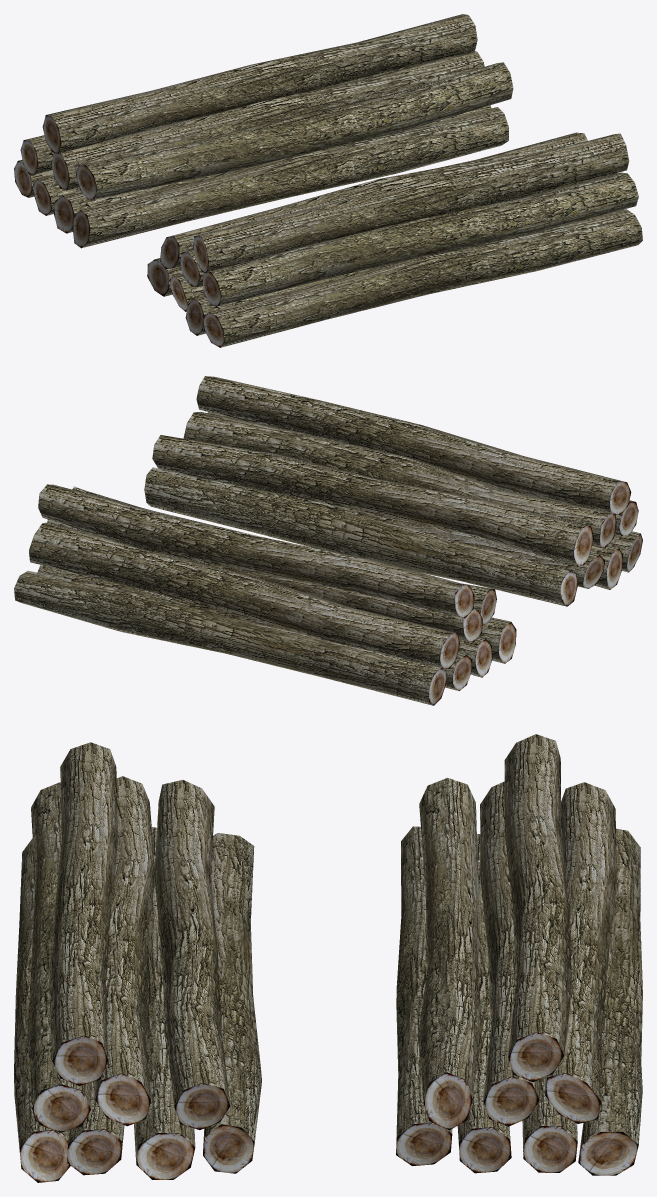
The model's file is Logs.obj.
3 renders of one model, top to bottom at view 1: azimuth 30°, elevation 25°; view 2: azimuth 150°, elevation 25°; view 3: azimuth 270°, elevation 25°, orthographic. The views are drawn at different scales.
Parts seen in each view (by area): view 1: Log_005, Log_006, Log_008, Log_015, Log_009, Log_016, Log_007, Log_011, Log_004, Log_014, Log_003, Log_01 (+4 smaller); view 2: Log_003, Log_012, Log_011, Log_002, Log_008, Log_009, Log_010, Log_007, Log_013, Log_01, Log_005, Log_004 (+4 smaller); view 3: Log_011, Log_008, Log_009, Log_006, Log_003, Log_010, Log_002, Log_012, Log_007, Log_016, Log_005, Log_013 (+4 smaller).
Boxes of the visible parts, <box> form: Log_005: <box>72,107,508,248</box>; Log_006: <box>75,62,513,199</box>; Log_008: <box>42,14,477,153</box>; Log_015: <box>203,209,642,347</box>; Log_009: <box>193,133,629,272</box>; Log_016: <box>202,172,638,305</box>; Log_007: <box>51,51,484,190</box>; Log_011: <box>160,132,587,269</box>; Log_004: <box>54,105,491,233</box>; Log_014: <box>185,209,623,335</box>; Log_003: <box>20,63,423,174</box>; Log_01: <box>33,174,80,215</box>; Log_003: <box>29,522,459,668</box>; Log_012: <box>144,467,577,606</box>; Log_011: <box>152,435,593,565</box>; Log_002: <box>14,570,446,705</box>; Log_008: <box>38,484,474,618</box>; Log_009: <box>196,376,631,514</box>; Log_010: <box>183,411,616,547</box>; Log_007: <box>47,519,482,642</box>; Log_013: <box>184,474,605,588</box>; Log_01: <box>37,565,472,690</box>; Log_005: <box>479,617,516,663</box>; Log_004: <box>458,637,492,677</box>; Log_011: <box>154,780,230,1129</box>; Log_008: <box>504,734,571,1082</box>; Log_009: <box>49,742,117,1085</box>; Log_006: <box>418,777,481,1130</box>; Log_003: <box>545,782,616,1123</box>; Log_010: <box>93,776,154,1126</box>; Log_002: <box>578,828,642,1175</box>; Log_012: <box>203,833,261,1173</box>; Log_007: <box>480,781,541,1126</box>; Log_016: <box>27,782,91,1132</box>; Log_005: <box>396,826,452,1165</box>; Log_013: <box>134,827,195,1179</box>.
Size of the model in its own units: 104 by 25.03 by 89.62.
